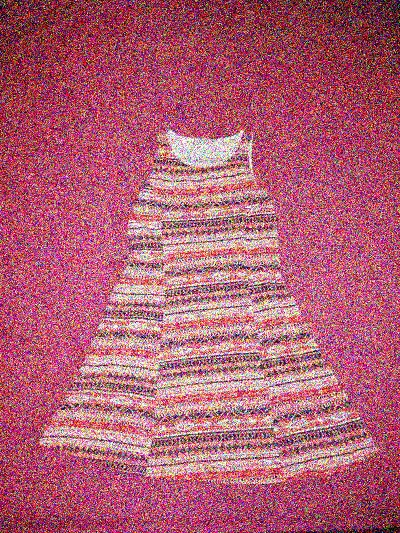Dress: (27, 112, 381, 496)
